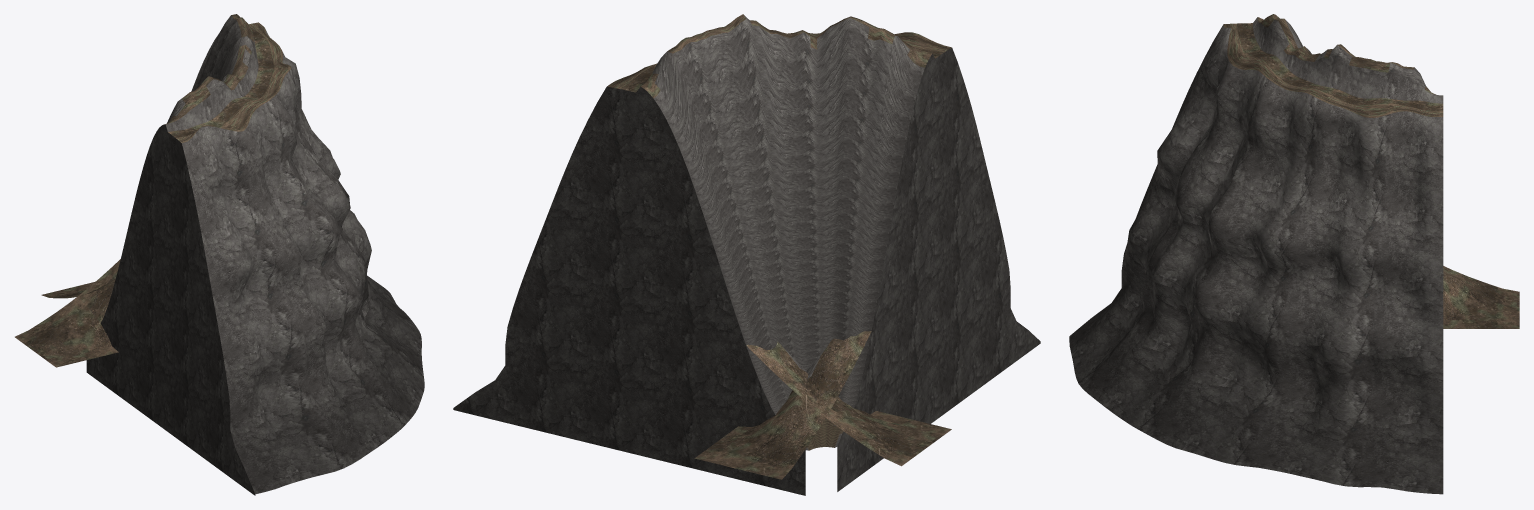
Rendered from seacliff_outer_h8_v5_autumn.glb.
3 renders of one model, left to right at view 1: azimuth 30°, elevation 25°; view 2: azimuth 150°, elevation 25°; view 3: azimuth 270°, elevation 25°, orthographic. The views are drawn at different scales.
Visible parts, largest first — view 1: seacliff_outer_h8; view 2: seacliff_outer_h8; view 3: seacliff_outer_h8.
Part boxes in pixels (x1,y1,x2,y2): seacliff_outer_h8: (15, 14, 424, 495); seacliff_outer_h8: (453, 14, 1040, 495); seacliff_outer_h8: (1069, 14, 1519, 494).
Bounding box in the file's own units: 12.29 × 10.69 × 12.29.
Materials: 2 (2 with a texture image).
